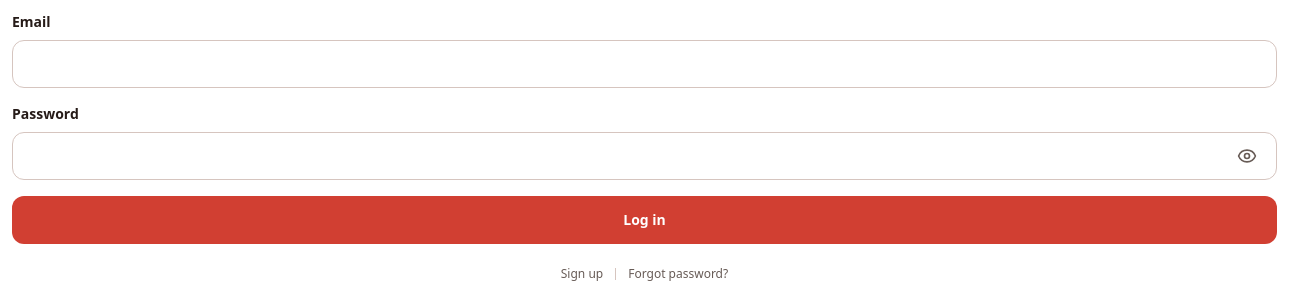
Test: email UI contracts › toggles login password visibility in en without submitting
The width and height of the screenshot is (1292, 298).
Type " a long password " into the password field labelled "Password".
click(644, 156); type(" a long password ")  # box [12,132,1277,180]
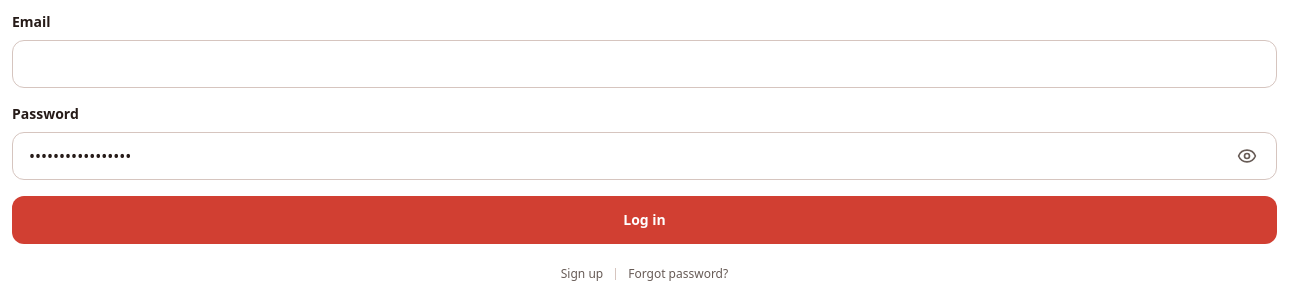
Click the button named "Show Password".
click(1247, 156)  # box [1225,134,1269,178]
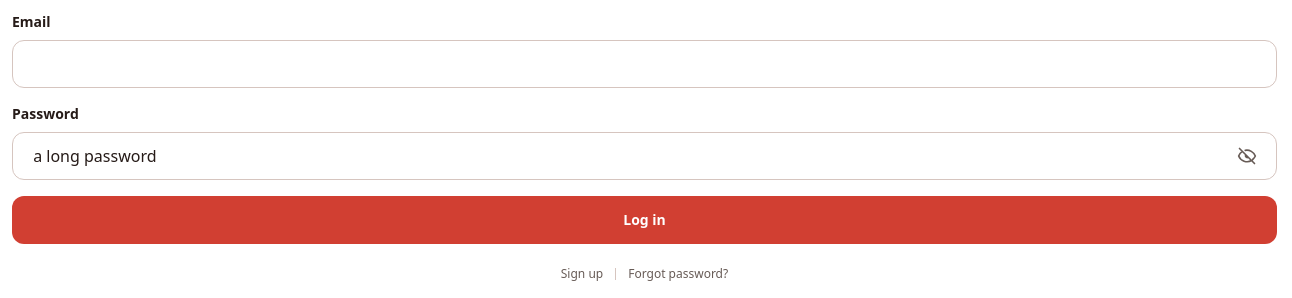
Result: the field labelled "Password" shows its text at [12,132,1277,180]
Click the button named "Hide Password".
click(1247, 156)  # box [1225,134,1269,178]
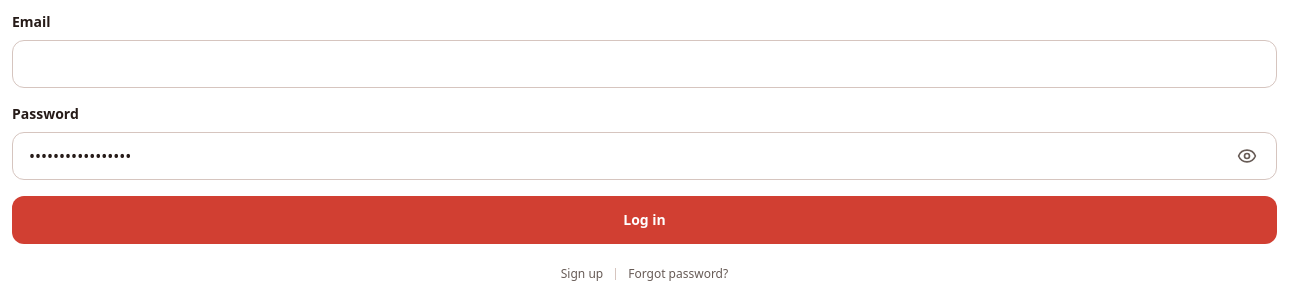
Result: the password field labelled "Password" hides its text at [12,132,1277,180]
